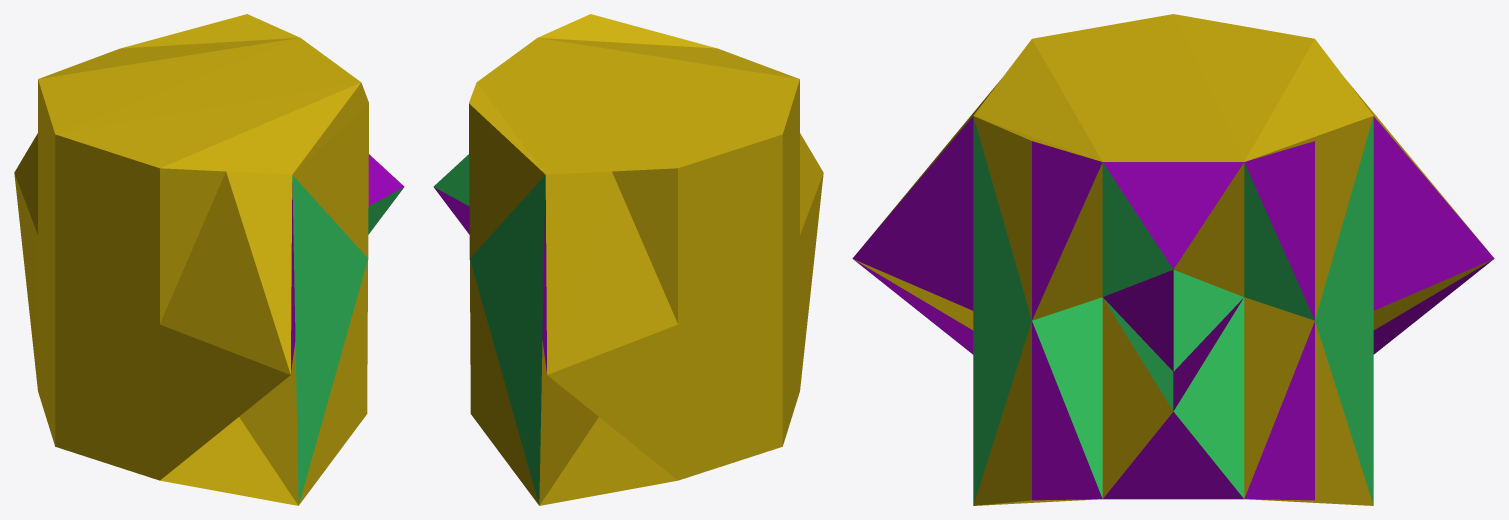
Rendered from enemy4.obj.
3 views of the same model, side by side, from view 1: azimuth 30°, elevation 25°; view 2: azimuth 150°, elevation 25°; view 3: azimuth 270°, elevation 25° (orthographic). The views are drawn at different scales.
Visible parts, largest first — view 1: Cylinder; view 2: Cylinder; view 3: Cylinder.
Part boxes in pixels (bbox=[...]): Cylinder: bbox=[14, 14, 404, 505]; Cylinder: bbox=[433, 14, 823, 505]; Cylinder: bbox=[852, 14, 1494, 505].
Bounding box in the file's own units: 2.34 × 2.31 × 3.21.
